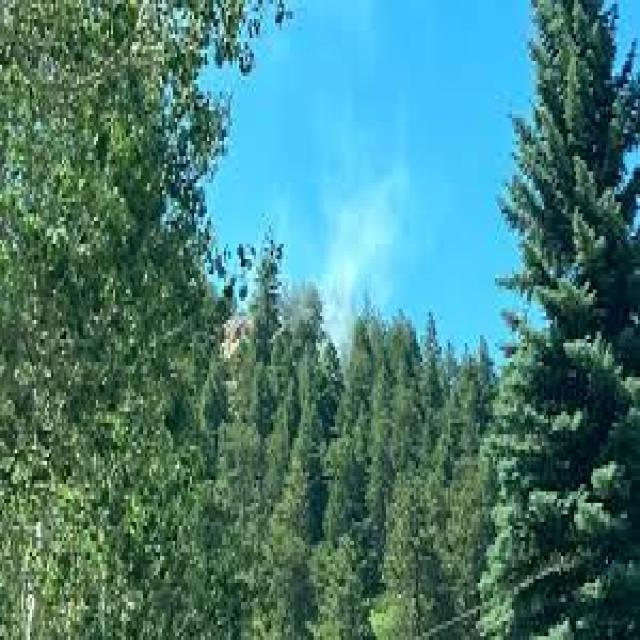Smoke: (310, 178, 392, 358)
